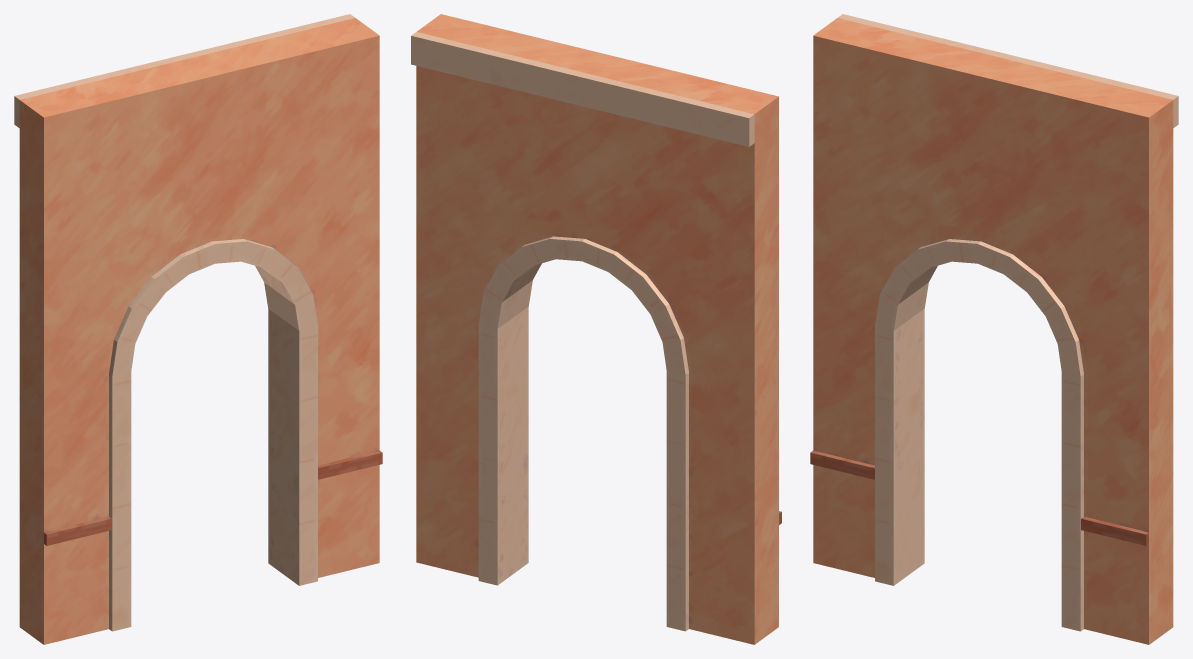
File: wall2_upper_door_low.fbx
3 renders of one model, left to right at view 1: azimuth 30°, elevation 25°; view 2: azimuth 150°, elevation 25°; view 3: azimuth 330°, elevation 25°, orthographic.
Visible parts, largest first — view 1: wall2_upper_door; view 2: wall2_upper_door; view 3: wall2_upper_door.
Boxes of the visible parts, x1,y1,x2,y2 form: wall2_upper_door: [14, 14, 382, 644]; wall2_upper_door: [411, 14, 781, 644]; wall2_upper_door: [810, 14, 1178, 644].
Size of the model in its own units: 8 by 12 by 1.36.
Materials: 1 (1 with a texture image).
